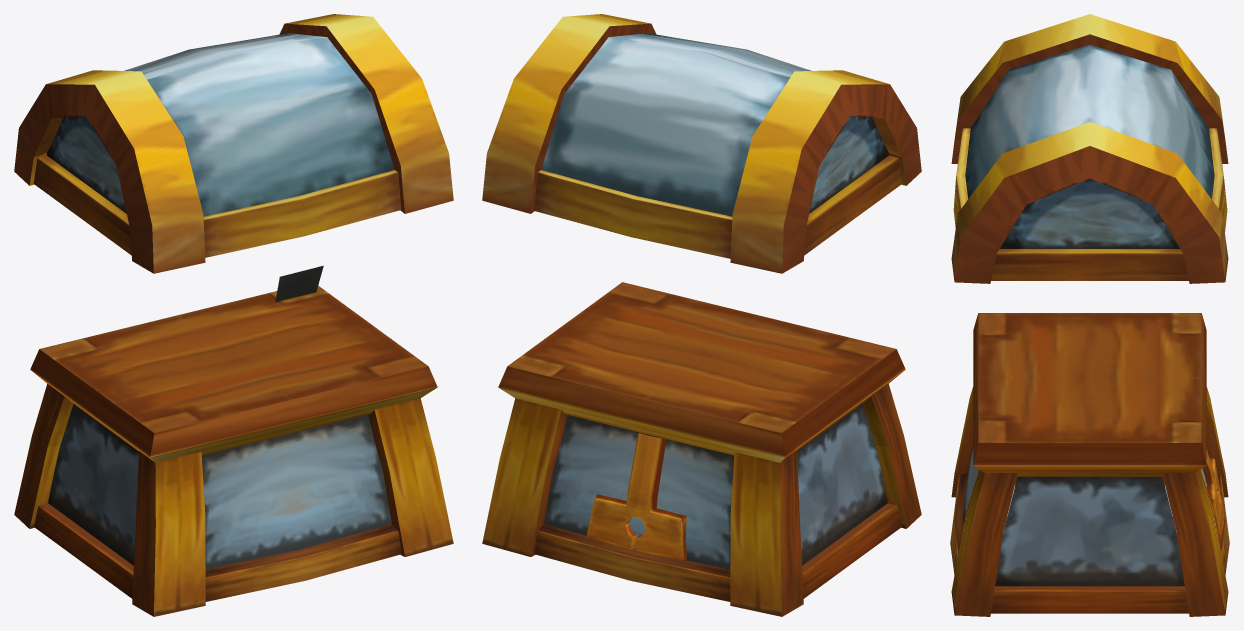
Rendered from t-treasureBox-01.FBX.
The picture shows the model from 3 angles, left to right: view 1: azimuth 30°, elevation 25°; view 2: azimuth 150°, elevation 25°; view 3: azimuth 270°, elevation 25°; orthographic projection. The views are drawn at different scales.
Parts seen in each view (by area): view 1: Object028, Object035, Object033; view 2: Object028, Object035; view 3: Object028, Object035.
Part boxes in pixels (x1,y1,x2,y2): Object028: (14,286,453,616); Object035: (14,14,453,273); Object033: (275,265,323,302); Object028: (482,282,921,616); Object035: (482,14,921,273); Object028: (950,313,1229,616); Object035: (951,14,1228,283).
Bounding box in the file's own units: 51.32 × 76.94 × 41.8.
